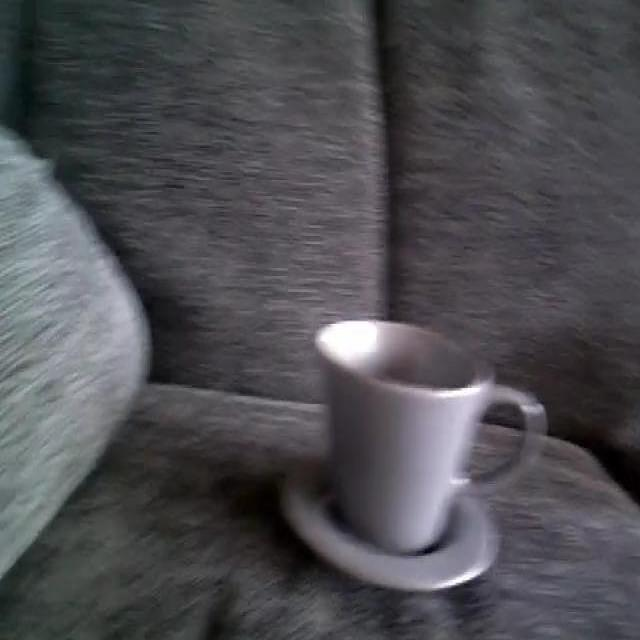cup: (298, 305, 524, 598)
